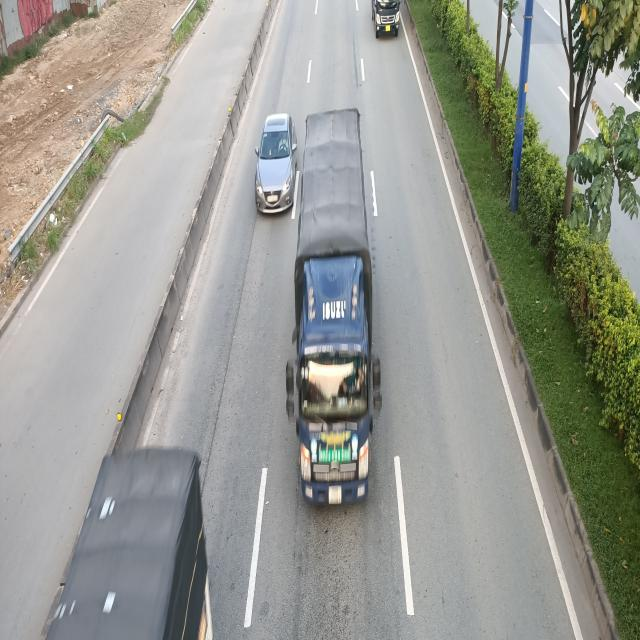car: (255, 113, 299, 216)
truck: (290, 110, 388, 509)
